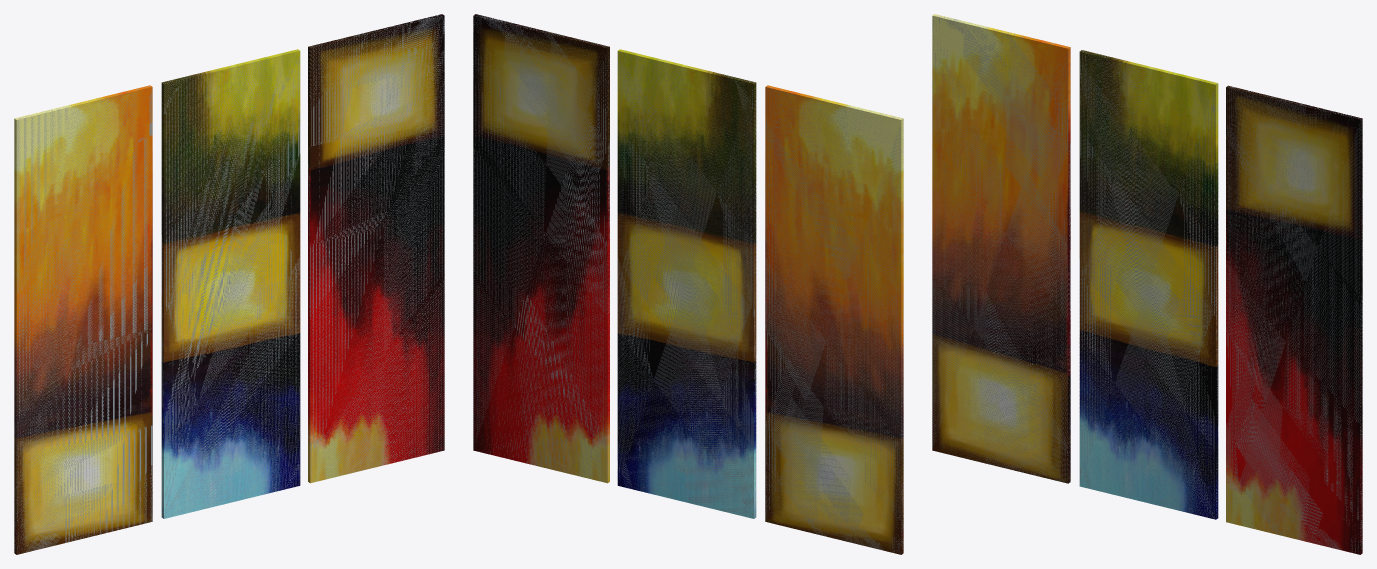
Rendered from painting.fbx.
The picture shows the model from 3 angles, left to right: view 1: azimuth 30°, elevation 25°; view 2: azimuth 150°, elevation 25°; view 3: azimuth 330°, elevation 25°; orthographic projection.
Visible parts, largest first — view 1: Modern_Abstract_paintings1; view 2: Modern_Abstract_paintings1; view 3: Modern_Abstract_paintings1.
Boxes of the visible parts, x1,y1,x2,y2 form: Modern_Abstract_paintings1: (14,14,444,554); Modern_Abstract_paintings1: (473,14,903,554); Modern_Abstract_paintings1: (932,14,1362,554).
Bounding box in the file's own units: 1.74 × 1.69 × 0.0159.
